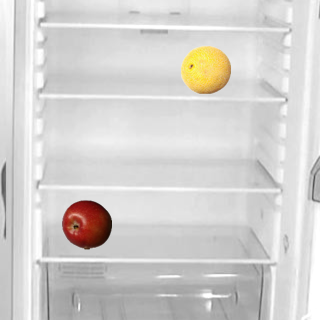Apple Braeburn: (61, 199, 111, 249)
Cantaloupe 1: (180, 44, 230, 94)
